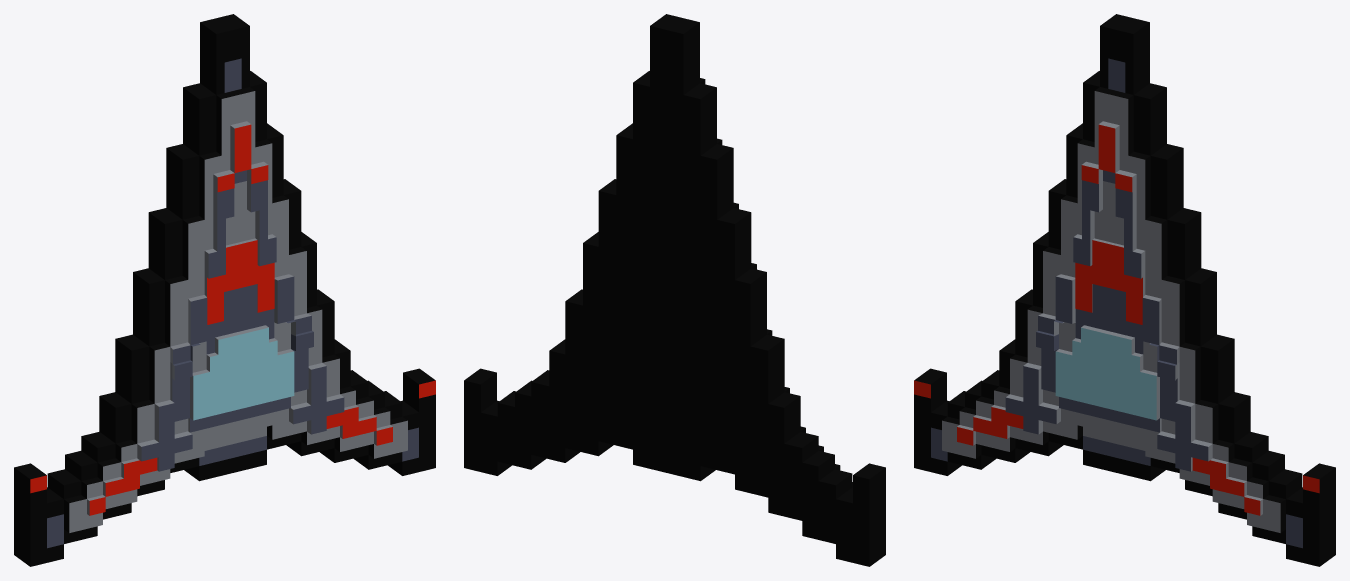
Rendered from NavePlayer1Skin3.fbx.
3 renders of one model, left to right at view 1: azimuth 30°, elevation 25°; view 2: azimuth 150°, elevation 25°; view 3: azimuth 330°, elevation 25°, orthographic.
Visible parts, largest first — view 1: Cube.003; view 2: Cube.003; view 3: Cube.003.
Boxes of the visible parts, x1=… form: Cube.003: x1=14, y1=14, x2=435, y2=566; Cube.003: x1=464, y1=14, x2=885, y2=566; Cube.003: x1=914, y1=14, x2=1335, y2=566.
Bounding box in the file's own units: 115 × 132 × 13.5.
